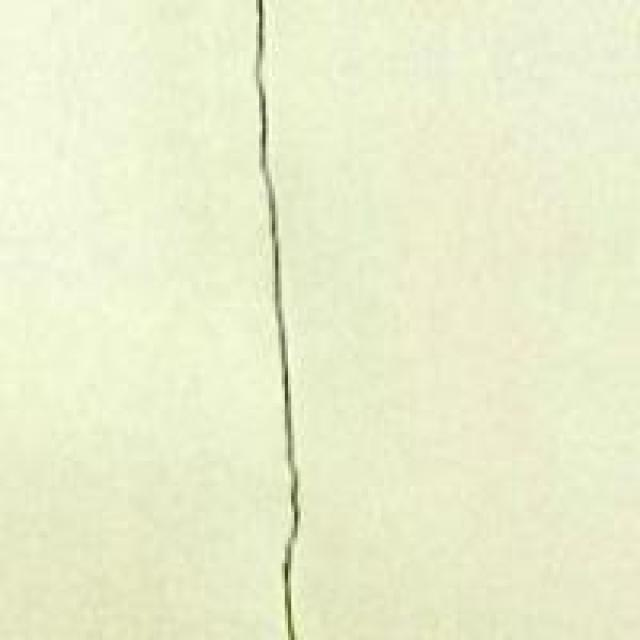crack: (192, 0, 397, 637)
